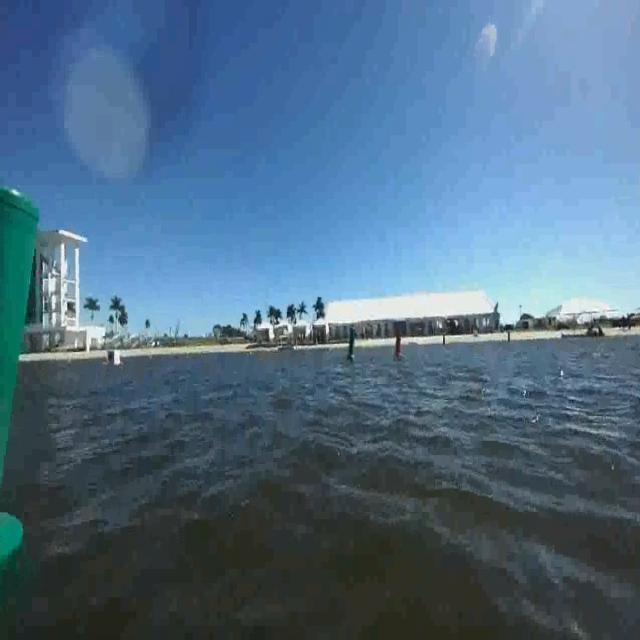green-column-buoy: (346, 327, 358, 361)
red-column-buoy: (393, 329, 403, 359)
